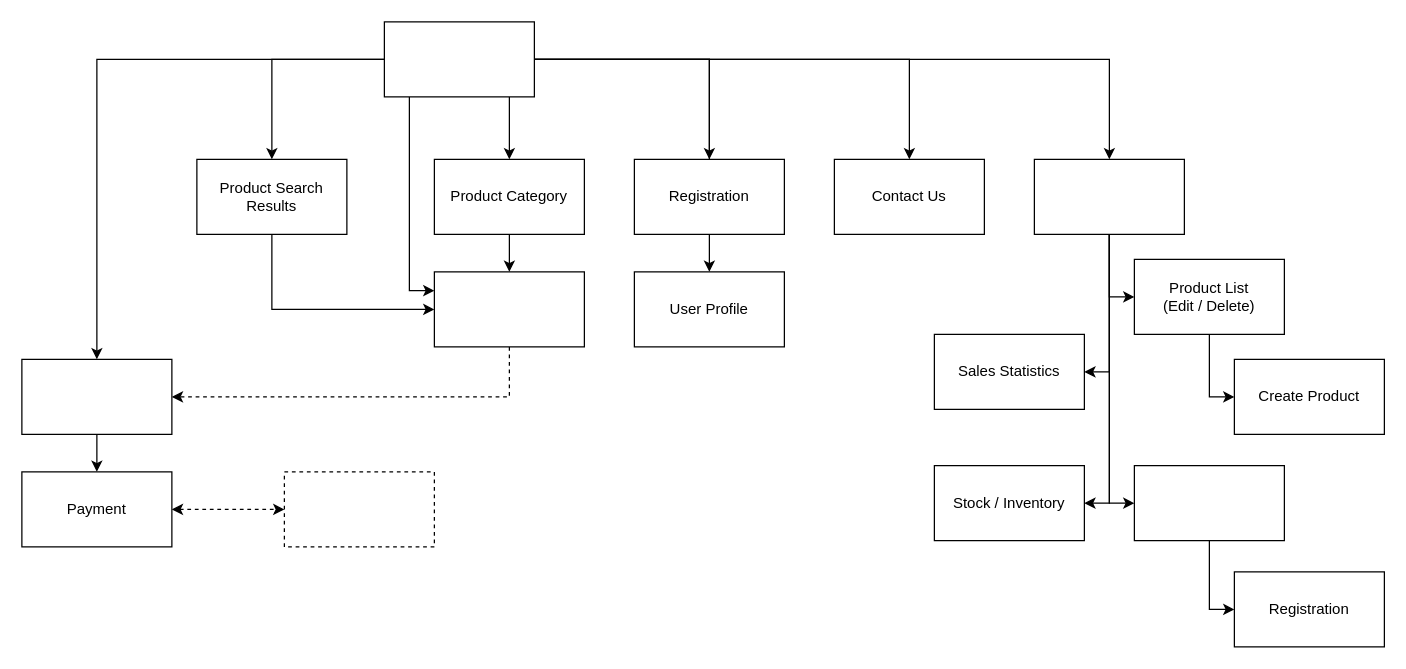
The diagram is 1406 pixels wide and 669 high, and some of its shapes have lost their labels. Each missing label, with the centre of its shape:
"Admin Panel" belongs at pixel 1108 196.
"Home" belongs at pixel 458 59.
"Payment Service Provider" belongs at pixel 358 509.
"Product Detail" belongs at pixel 508 309.
"Shopping Cart Add / delete items" belongs at pixel 96 396.
"User List (Edit / Delete)" belongs at pixel 1208 502.
